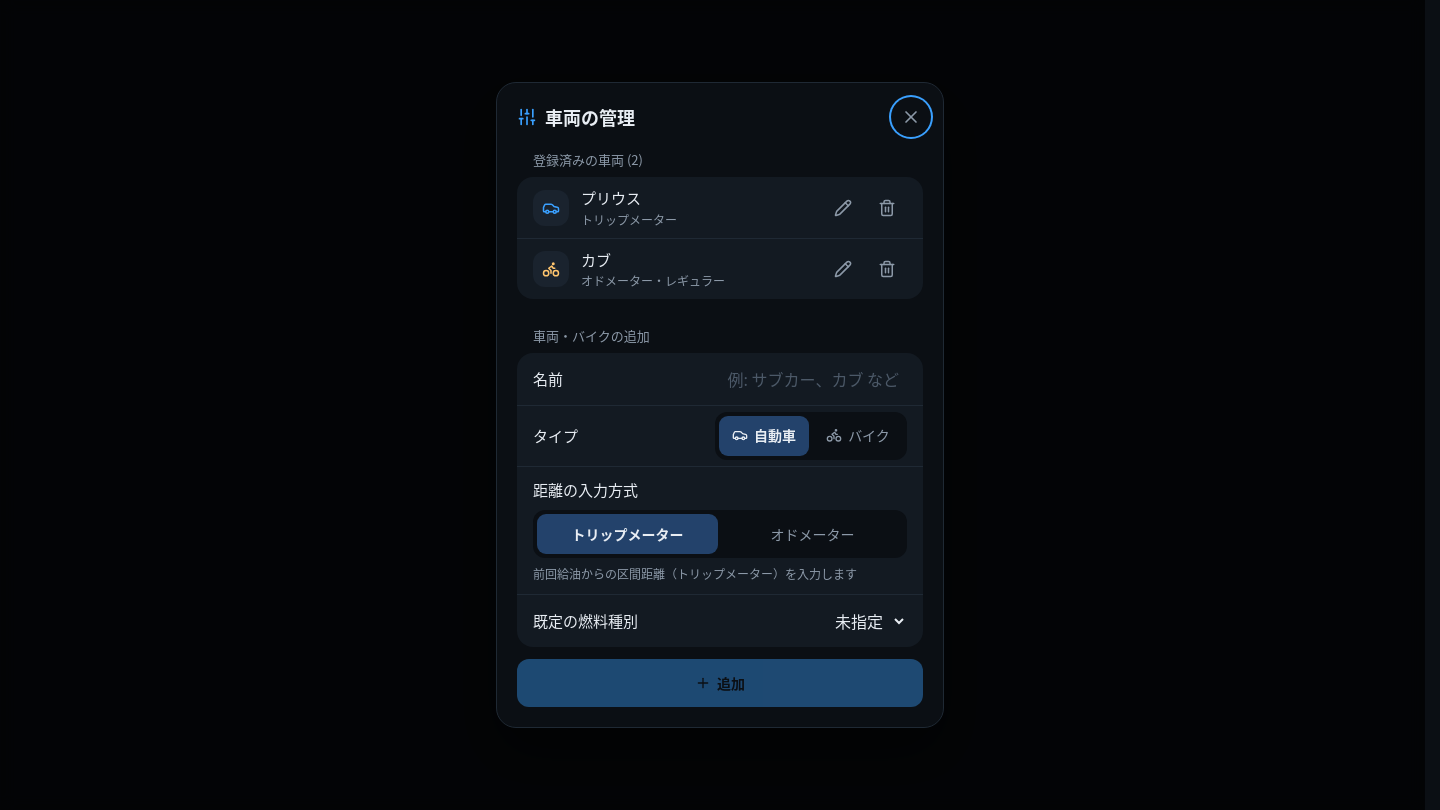
ManageVehiclesModal › 編集 › オドメーター → トリップへ切り替える注意文を出す
Click the button named "「カブ」を編集" at (843, 269), box [823,249,863,289]
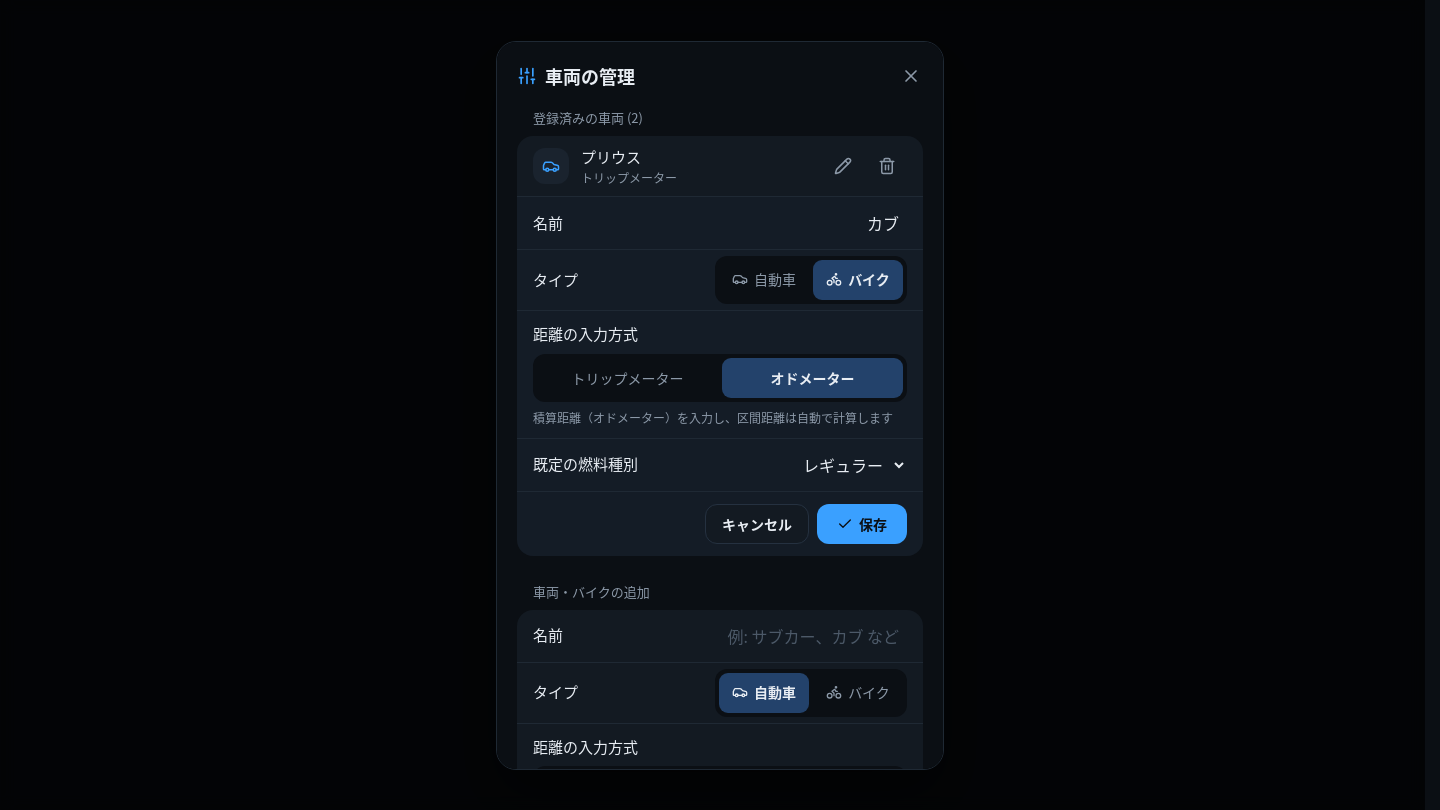
Click the button "トリップメーター" at (628, 378), box [537,358,718,398]
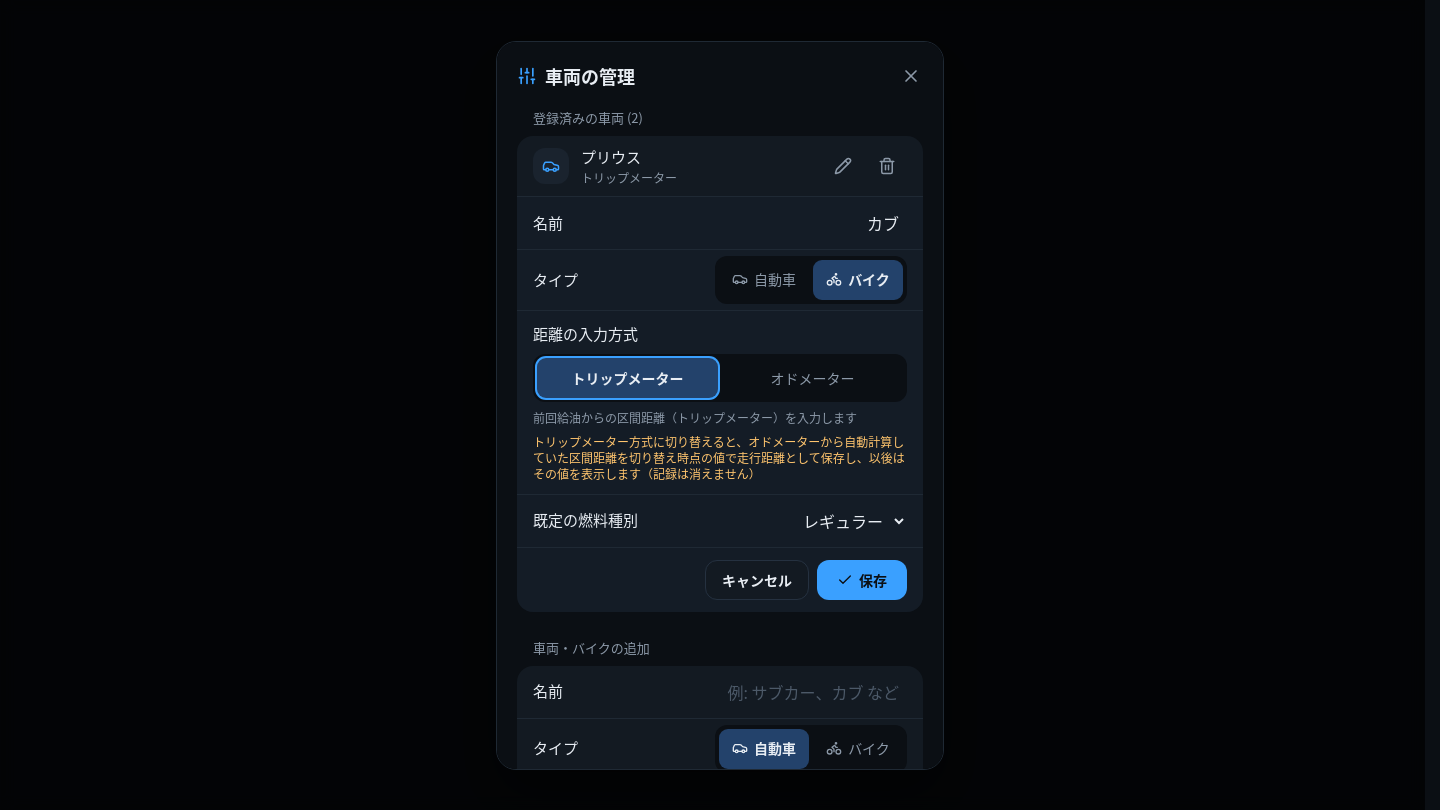
Expected: the text "切り替え時点の値で走行距離として保存" is shown, [533,432,905,482]
